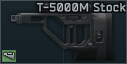Orsis T-5000M stock: (0, 0, 127, 64)
